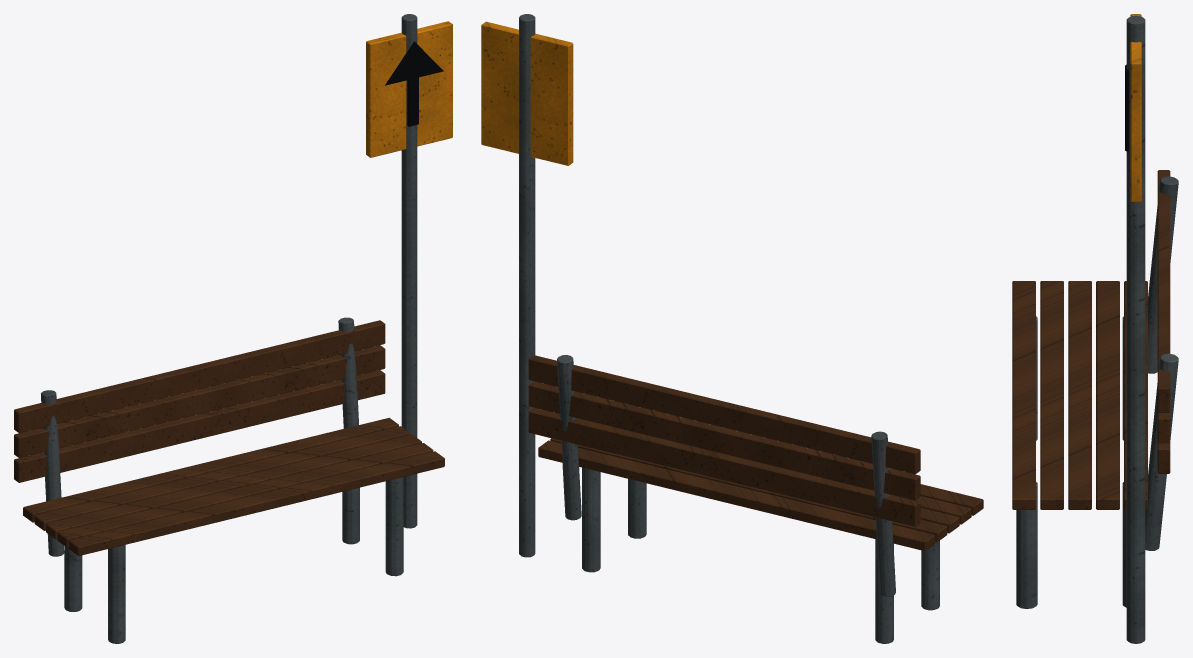
Rendered from PROP-3BF17570D415_lod1.glb.
3 views of the same model, side by side, from view 1: azimuth 30°, elevation 25°; view 2: azimuth 150°, elevation 25°; view 3: azimuth 270°, elevation 25° (orthographic). The views are drawn at different scales.
Parts seen in each view (by area): view 1: back_slats.004, seat_slats.004, sign_plate.001, sign_post.001, bench_legs.004, back_support.004, direction_symbol.001; view 2: back_slats.004, seat_slats.004, sign_plate.001, sign_post.001, bench_legs.004, back_support.004; view 3: seat_slats.004, sign_post.001, back_support.004, back_slats.004, bench_legs.004, sign_plate.001, symbol_stem.001.
Part boxes in pixels (x1=…): back_slats.004: x1=14, y1=320, x2=385, y2=482; seat_slats.004: x1=23, y1=417, x2=444, y2=555; sign_plate.001: x1=366, y1=21, x2=452, y2=157; sign_post.001: x1=401, y1=14, x2=417, y2=528; bench_legs.004: x1=64, y1=477, x2=403, y2=643; back_support.004: x1=41, y1=317, x2=358, y2=556; direction_symbol.001: x1=385, y1=41, x2=443, y2=85; back_slats.004: x1=528, y1=355, x2=920, y2=526; seat_slats.004: x1=538, y1=438, x2=983, y2=550; sign_plate.001: x1=481, y1=21, x2=573, y2=165; sign_post.001: x1=519, y1=14, x2=535, y2=557; bench_legs.004: x1=582, y1=467, x2=939, y2=643; back_support.004: x1=557, y1=355, x2=895, y2=596; seat_slats.004: x1=1012, y1=281, x2=1147, y2=509; sign_post.001: x1=1126, y1=15, x2=1145, y2=643; back_support.004: x1=1145, y1=176, x2=1178, y2=550; back_slats.004: x1=1157, y1=170, x2=1170, y2=473; bench_legs.004: x1=1016, y1=316, x2=1126, y2=608; sign_plate.001: x1=1130, y1=14, x2=1141, y2=201; symbol_stem.001: x1=1125, y1=64, x2=1128, y2=151.
Bounding box in the file's own units: 2.14 × 2.45 × 0.5953.
Materials: 4 (4 with a texture image).
